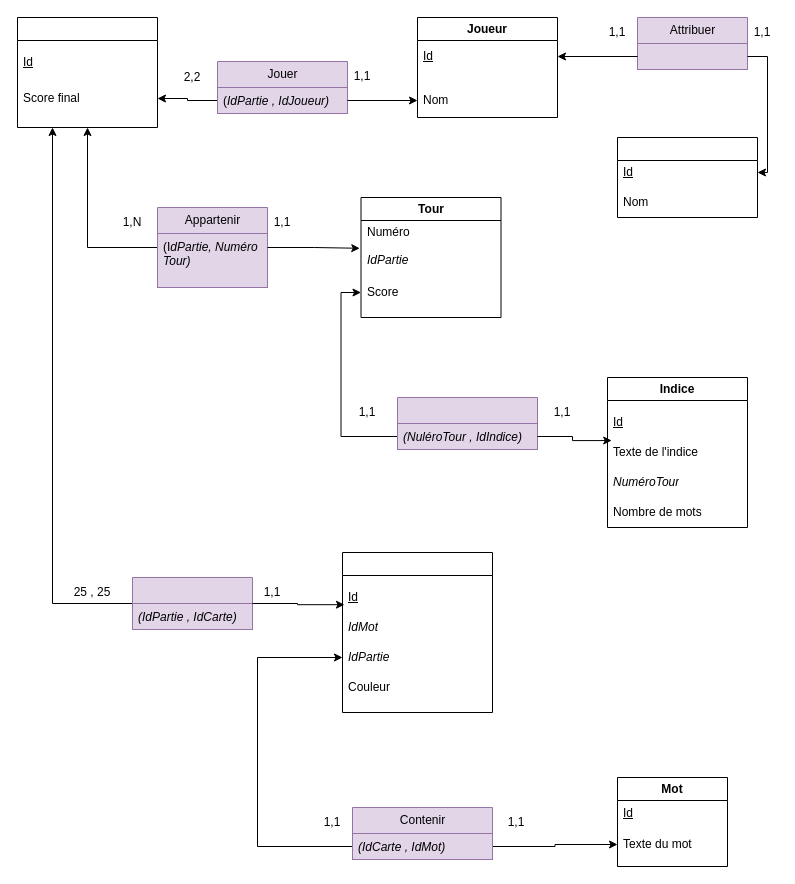
Some shapes in this 795 by 884 pixel diagram are drawn without their labels. Each missing label, with the box of its shape:
( IdJoueur , IdRole): (636, 42, 748, 70)
Avoir: (396, 396, 538, 450)
Carte: (342, 552, 492, 712)
Obtenir: (132, 576, 252, 630)
Partie: (16, 16, 158, 128)
Role: (616, 136, 758, 218)
